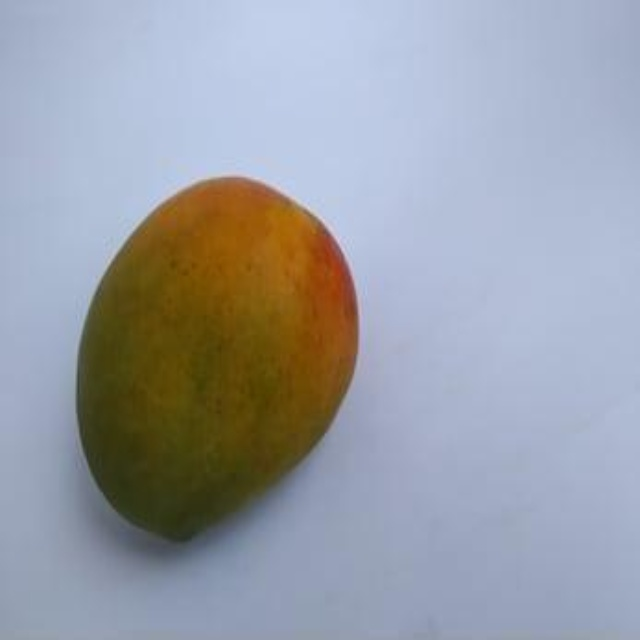mango: (75, 179, 357, 546)
